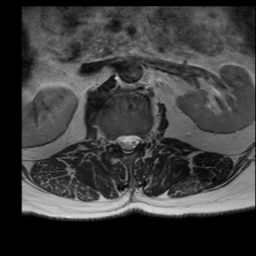CCS_normal: (124, 128, 130, 158)
LFS_normal: (140, 129, 148, 150)
LLS_normal: (130, 129, 139, 150)
RFS_normal: (108, 129, 116, 150)
RLS_normal: (116, 130, 124, 154)
